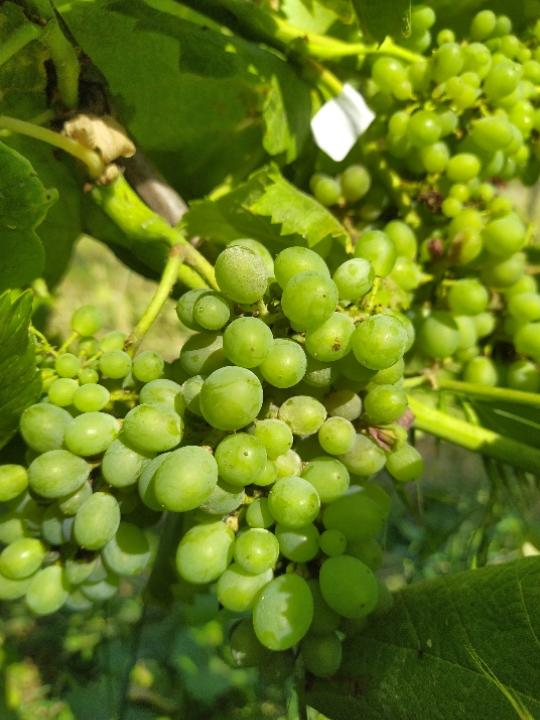grape: (4, 229, 429, 687)
